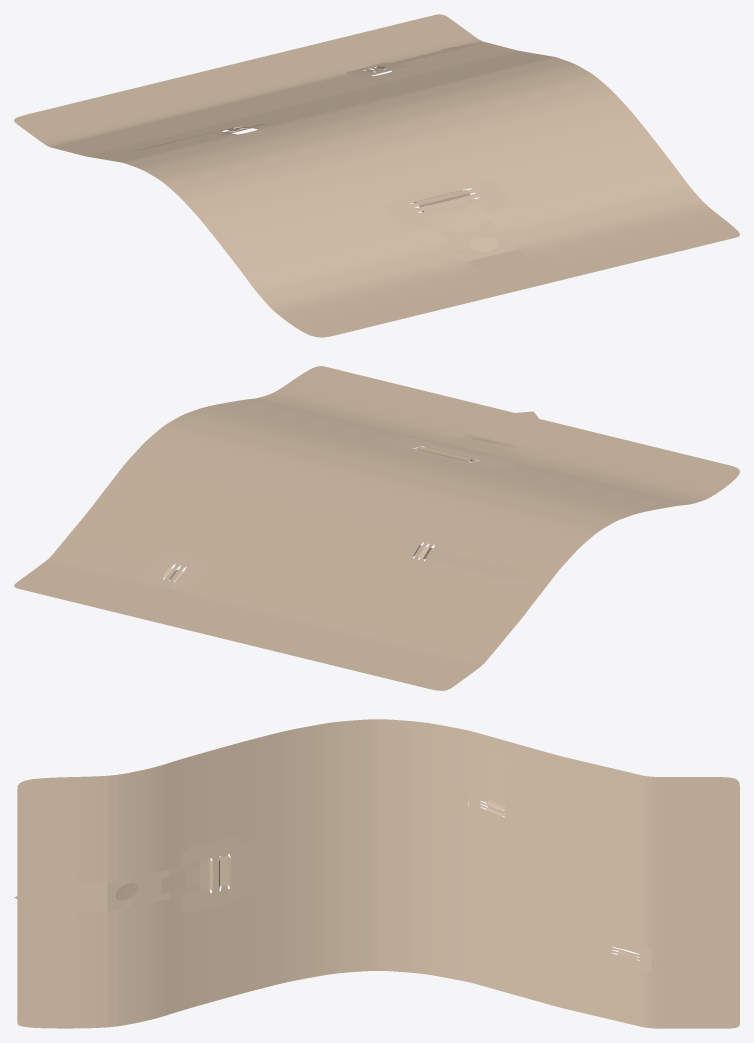
File: nodi.glb
3 views of the same model, one above another, from view 1: azimuth 30°, elevation 25°; view 2: azimuth 150°, elevation 25°; view 3: azimuth 270°, elevation 25° (orthographic). The views are drawn at different scales.
Visible parts, largest first — view 1: Untitled design (1).001, Progetto senza titolo (5).005, Progetto senza titolo (6).001; view 2: Untitled design (1).001, Progetto senza titolo (5).005, Progetto senza titolo (5).004, Progetto senza titolo (5).003, Progetto senza titolo (6).004, Progetto senza titolo (6).001, Progetto senza titolo (6).005; view 3: Untitled design (1).001, Progetto senza titolo (5).005, Progetto senza titolo (6).001, Progetto senza titolo (5).004, Progetto senza titolo (5).003, Progetto senza titolo (6).004, Progetto senza titolo (6).005.
Boxes of the visible parts, box(x1,y1,x2,y2) form: Untitled design (1).001: box(14, 14, 739, 337); Progetto senza titolo (5).005: box(412, 189, 555, 284); Progetto senza titolo (6).001: box(380, 177, 511, 231); Untitled design (1).001: box(14, 366, 739, 690); Progetto senza titolo (5).005: box(417, 411, 557, 461); Progetto senza titolo (5).004: box(413, 545, 526, 580); Progetto senza titolo (5).003: box(68, 544, 183, 581); Progetto senza titolo (6).004: box(142, 554, 204, 590); Progetto senza titolo (6).001: box(384, 437, 515, 470); Progetto senza titolo (6).005: box(397, 531, 452, 564); Untitled design (1).001: box(17, 719, 739, 1028); Progetto senza titolo (5).005: box(14, 856, 231, 926); Progetto senza titolo (6).001: box(181, 836, 246, 912); Progetto senza titolo (5).004: box(482, 746, 514, 816); Progetto senza titolo (5).003: box(608, 949, 643, 1013); Progetto senza titolo (6).004: box(598, 936, 651, 972); Progetto senza titolo (6).005: box(469, 789, 513, 825).
Size of the model in its own units: 1.64 by 0.1761 by 2.
